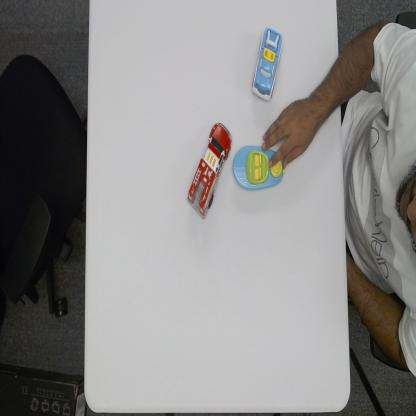Arm: (311, 57, 340, 119)
Boat: (232, 142, 285, 192)
Car: (251, 24, 284, 102)
Firetruck: (187, 118, 233, 222)
Hand: (261, 97, 315, 171)
